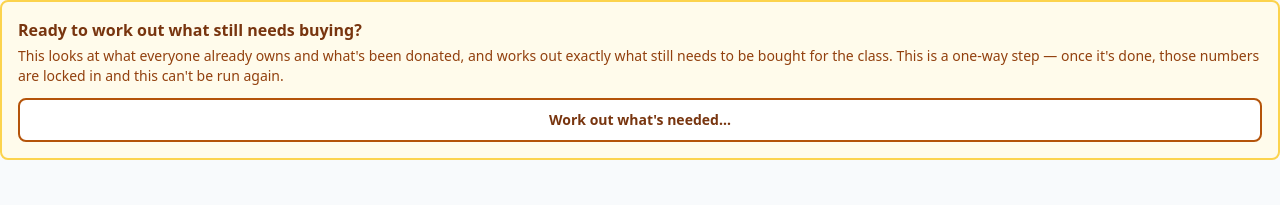
ReconcileAction › shows a generic retry message on a non-409 failure
This screenshot has width=1280, height=205.
Click the button "Work out what's needed…": (640, 120) [18, 98, 1262, 142]
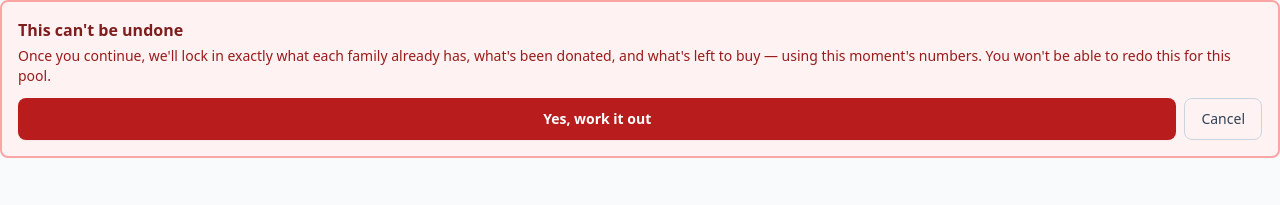
Click the button "Yes, work it out": (597, 119) [18, 98, 1176, 140]
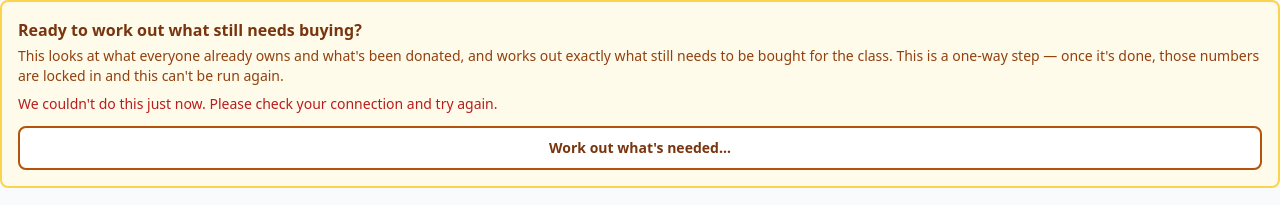
Now the text "We couldn't do this just now. Please check your connection and try again." is shown, box [18, 94, 498, 113]
